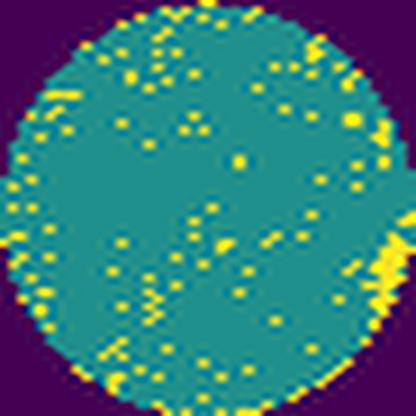Edge-Loc: (358, 229, 416, 338)
